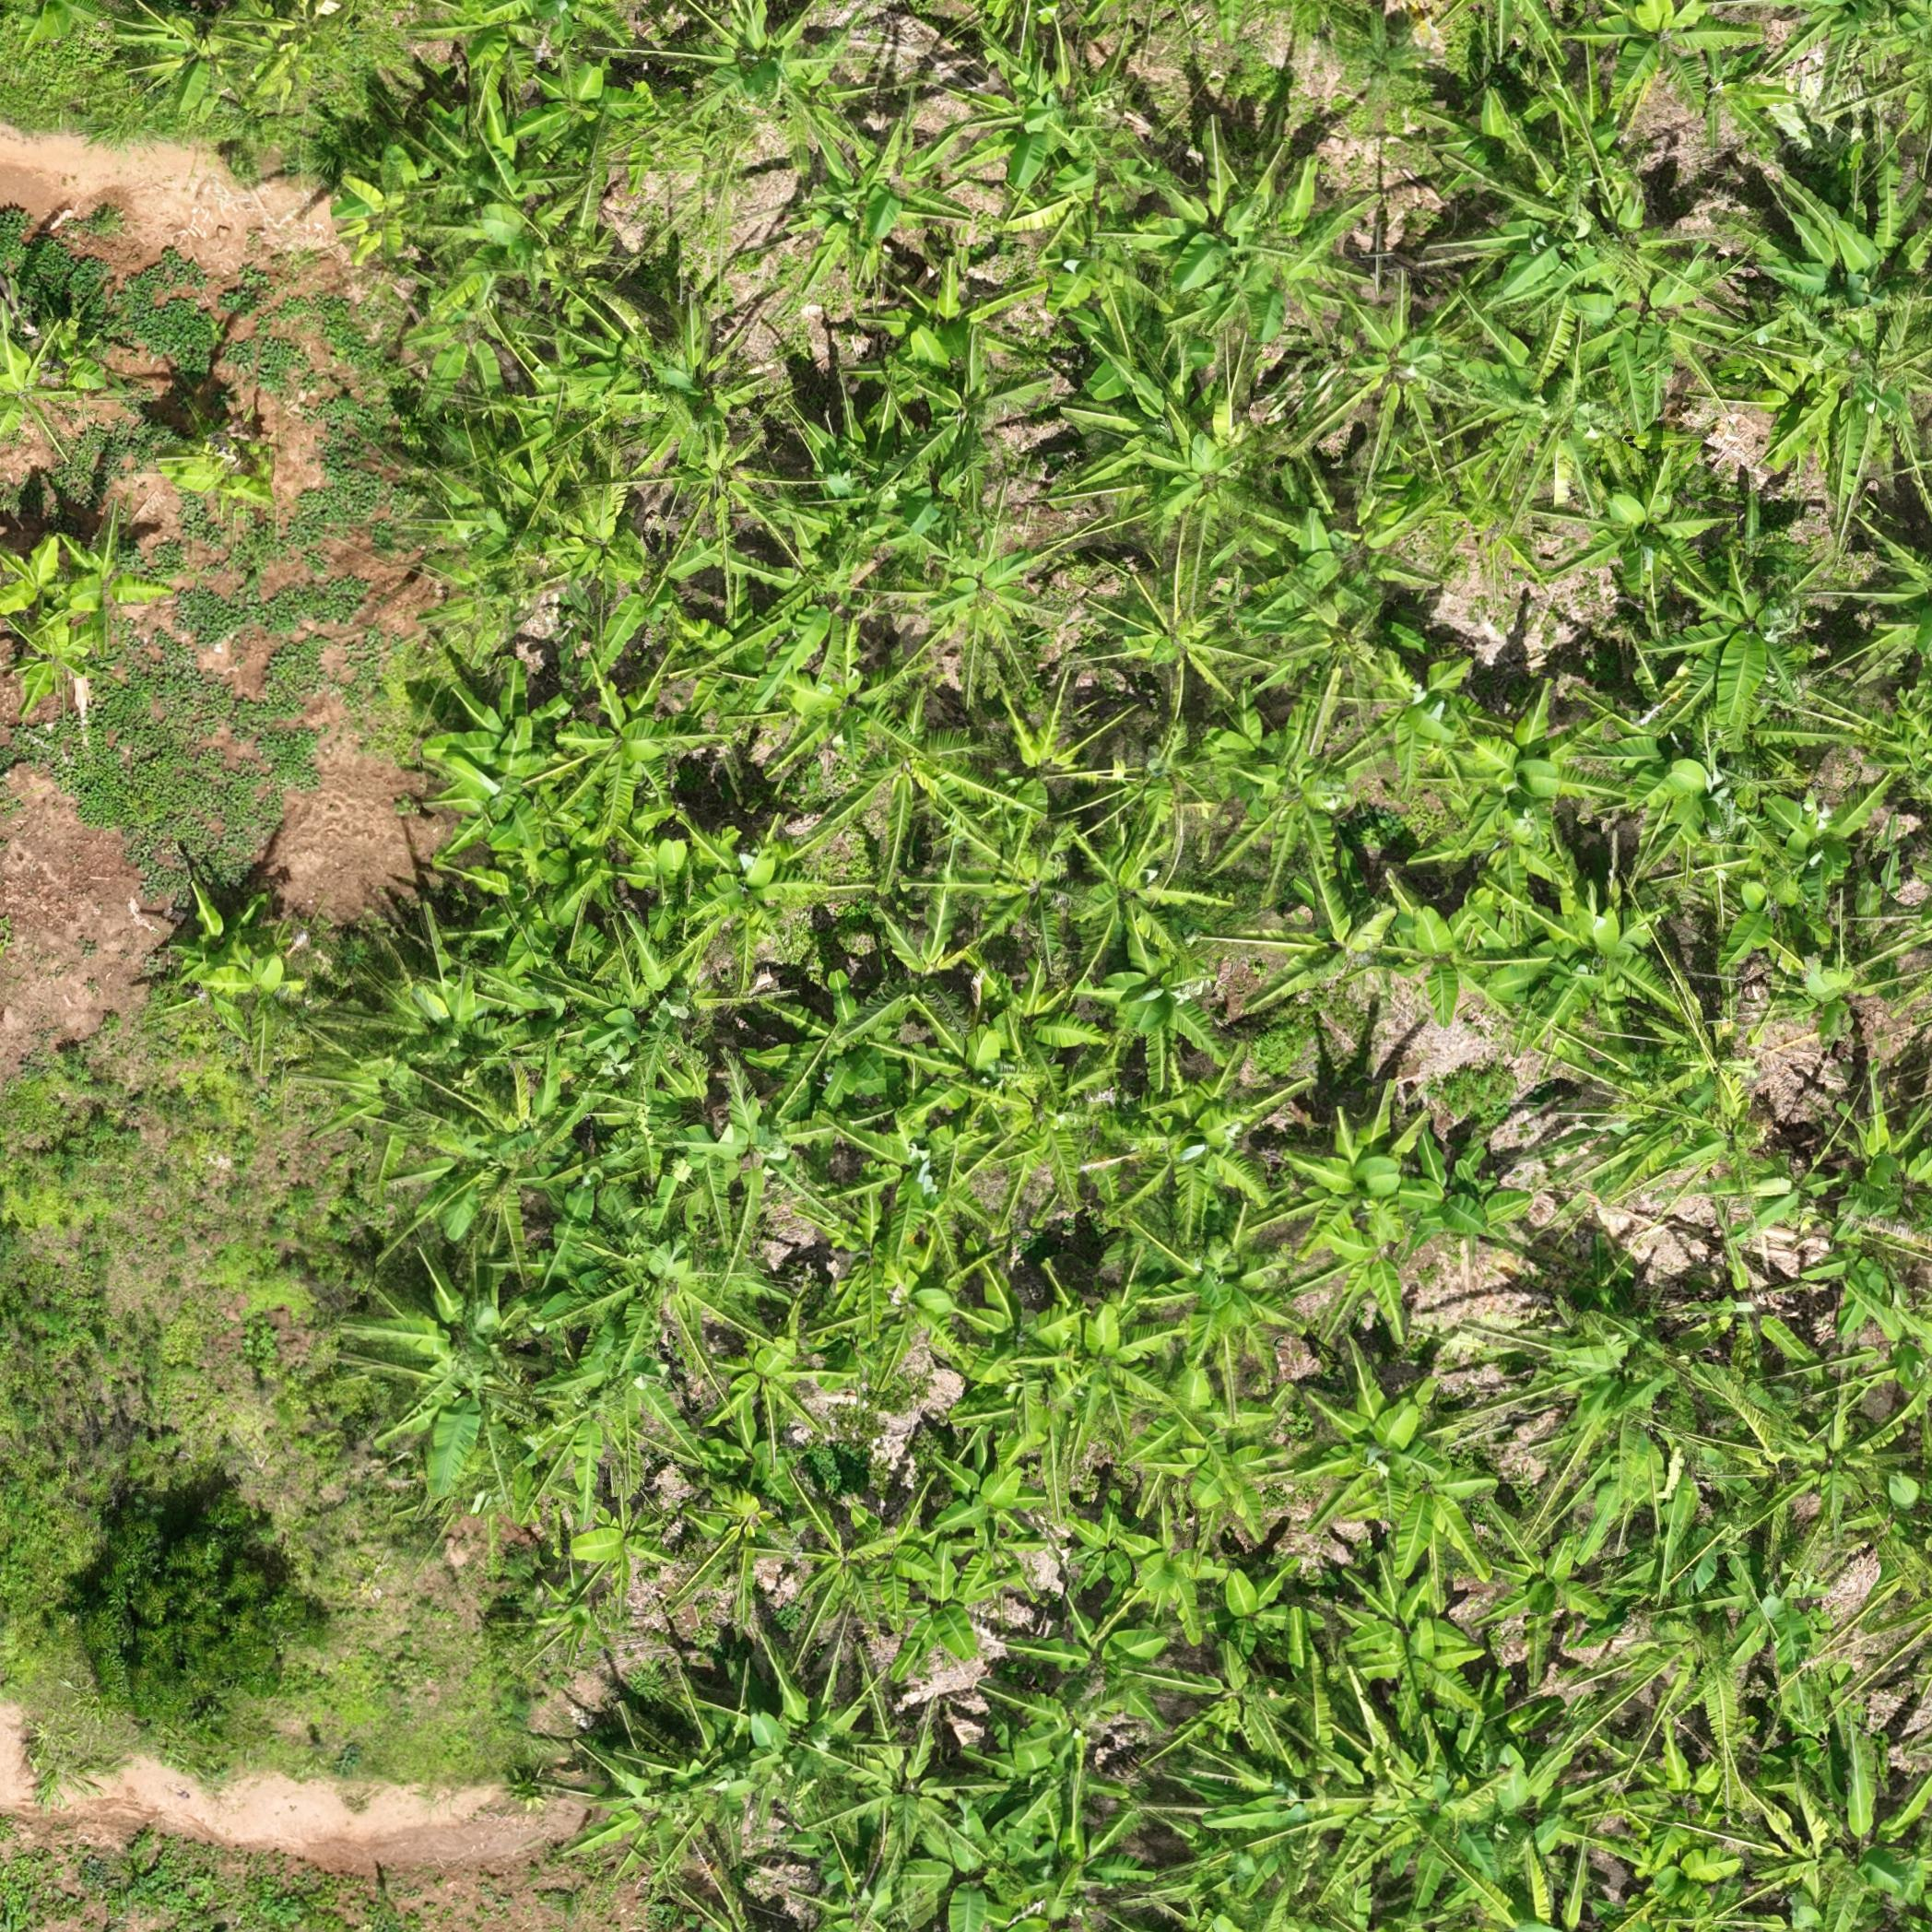Banana: (336, 1253, 568, 1493), (771, 1649, 1000, 1874), (1706, 287, 1928, 511), (1205, 690, 1389, 916), (655, 1063, 865, 1251), (925, 23, 1150, 195), (1658, 1196, 1858, 1378), (1040, 916, 1251, 1086), (416, 1085, 617, 1260), (810, 1102, 1023, 1269), (548, 1189, 740, 1369), (901, 517, 1077, 708), (1449, 134, 1654, 297), (1467, 1306, 1690, 1454), (1092, 1065, 1292, 1230), (531, 1323, 713, 1502), (846, 897, 1037, 1063), (842, 711, 1023, 886), (1063, 545, 1267, 699), (1184, 869, 1405, 1008), (1399, 402, 1592, 561), (1102, 1205, 1299, 1359), (736, 644, 941, 778), (1755, 166, 1930, 324), (1315, 285, 1479, 451), (998, 200, 1184, 345), (899, 331, 1062, 494), (961, 1302, 1125, 1463), (651, 0, 849, 133), (1143, 106, 1284, 288), (1132, 421, 1306, 568), (382, 474, 540, 635), (1688, 1752, 1852, 1905), (1024, 318, 1215, 446), (685, 1323, 855, 1465), (865, 249, 1049, 379), (1024, 1569, 1180, 1721), (426, 663, 598, 796), (1316, 1546, 1495, 1674), (780, 393, 945, 531), (830, 1254, 991, 1394), (570, 1746, 729, 1886), (1338, 1652, 1543, 1760), (1286, 497, 1456, 626), (1477, 1502, 1614, 1663), (462, 432, 609, 580), (1306, 1350, 1447, 1504), (1072, 725, 1233, 860), (720, 487, 883, 619), (1143, 1647, 1311, 1775), (1366, 1736, 1513, 1881), (1562, 1812, 1748, 1921), (1378, 879, 1514, 1028), (674, 809, 821, 945), (1767, 1398, 1916, 1532), (1276, 1116, 1424, 1251), (970, 690, 1134, 810), (533, 941, 681, 1074), (1622, 987, 1782, 1111), (617, 1709, 780, 1829), (1734, 784, 1904, 899), (968, 955, 1102, 1100), (1178, 1766, 1368, 1868), (426, 846, 580, 971), (1568, 479, 1729, 598), (297, 1023, 437, 1159), (1803, 1752, 1928, 1902), (1801, 1085, 1930, 1226), (1766, 938, 1909, 1063), (547, 499, 686, 626), (1580, 5, 1752, 108), (138, 409, 288, 525), (1138, 1856, 1373, 1930), (50, 515, 188, 640), (1667, 853, 1805, 978), (1352, 1465, 1499, 1582), (672, 564, 816, 683), (315, 142, 433, 281), (1164, 1419, 1306, 1536), (1451, 722, 1612, 824), (837, 110, 964, 237), (1115, 1364, 1274, 1465), (545, 310, 686, 423), (1408, 83, 1555, 191), (750, 1835, 915, 1930), (669, 1479, 791, 1606), (1651, 1617, 1775, 1741), (763, 170, 888, 292), (890, 1842, 1062, 1930), (1474, 1753, 1614, 1859), (1619, 734, 1729, 867), (1394, 1146, 1539, 1246), (1359, 651, 1484, 764), (1033, 1493, 1169, 1598), (147, 878, 264, 998), (571, 1486, 683, 1612), (1001, 1806, 1143, 1904), (379, 959, 502, 1069), (902, 1546, 1010, 1670), (111, 4, 228, 113), (925, 1456, 1060, 1546), (403, 272, 504, 393), (435, 764, 561, 860), (1194, 1560, 1315, 1660), (787, 1509, 886, 1624), (543, 775, 649, 881), (495, 1569, 614, 1663), (232, 934, 315, 1067), (840, 1477, 941, 1585), (1548, 1231, 1654, 1330), (1414, 0, 1571, 65), (2, 531, 87, 649), (1697, 48, 1789, 143)
